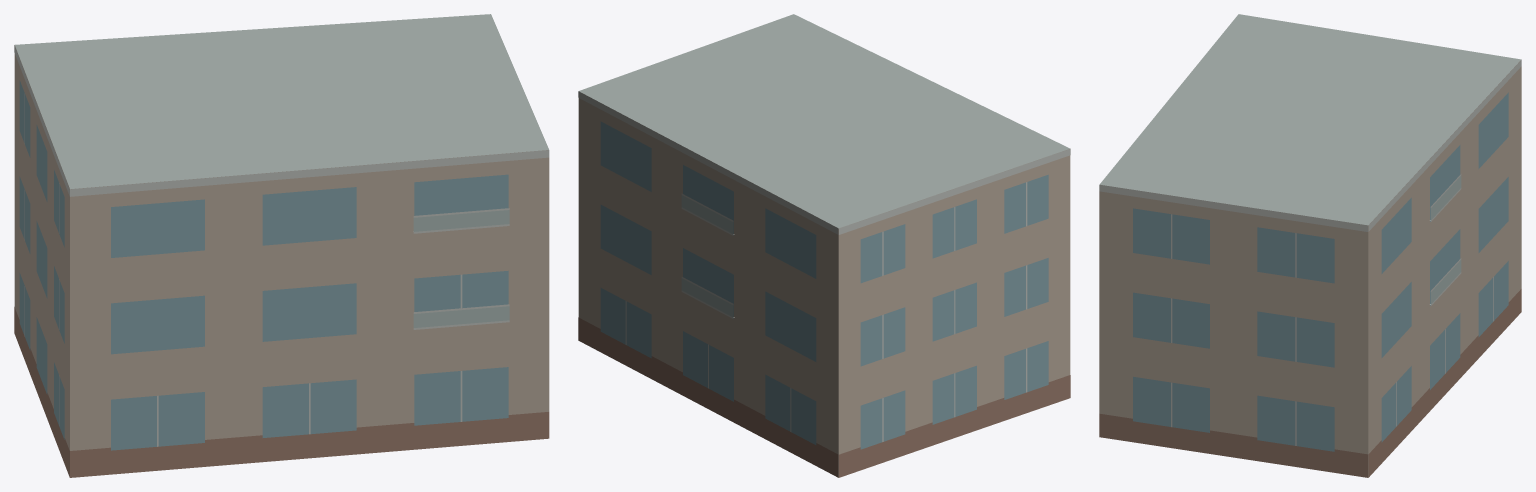
Rendered from survey-upis-32869767.glb.
The picture shows the model from 3 angles, left to right: view 1: azimuth 30°, elevation 25°; view 2: azimuth 150°, elevation 25°; view 3: azimuth 270°, elevation 25°; orthographic projection. The views are drawn at different scales.
Parts seen in each view (by area): view 1: survey-upis-32869767.tmp; view 2: survey-upis-32869767.tmp; view 3: survey-upis-32869767.tmp.
Part boxes in pixels (box(x1,y1,x2,y2)): survey-upis-32869767.tmp: box(14, 14, 549, 477); survey-upis-32869767.tmp: box(578, 14, 1070, 477); survey-upis-32869767.tmp: box(1099, 14, 1521, 477).
Size of the model in its own units: 16.44 by 9.15 by 13.88.
